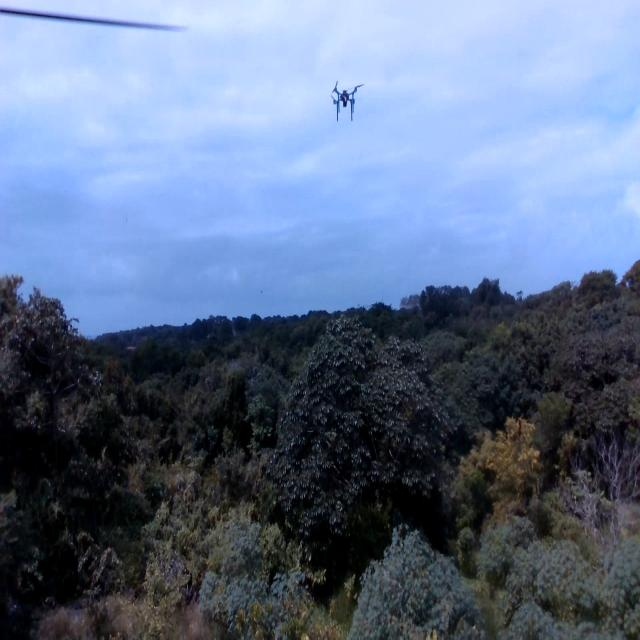-uav-: (321, 67, 375, 145)
